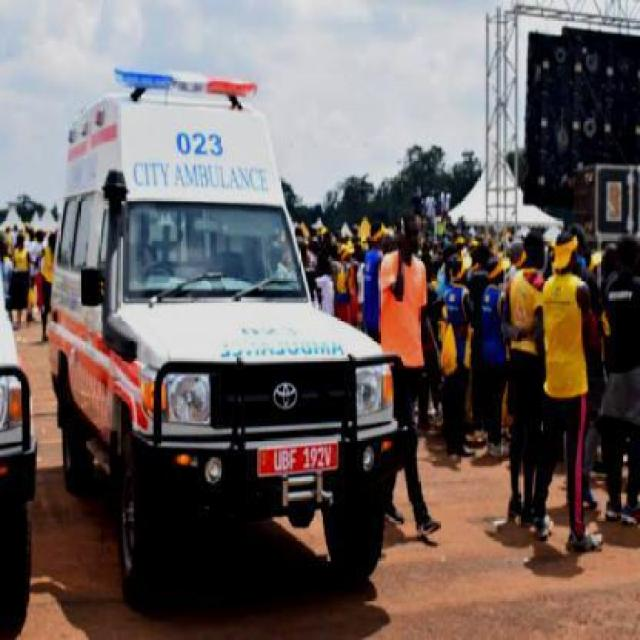Ambulance: (43, 66, 394, 585)
